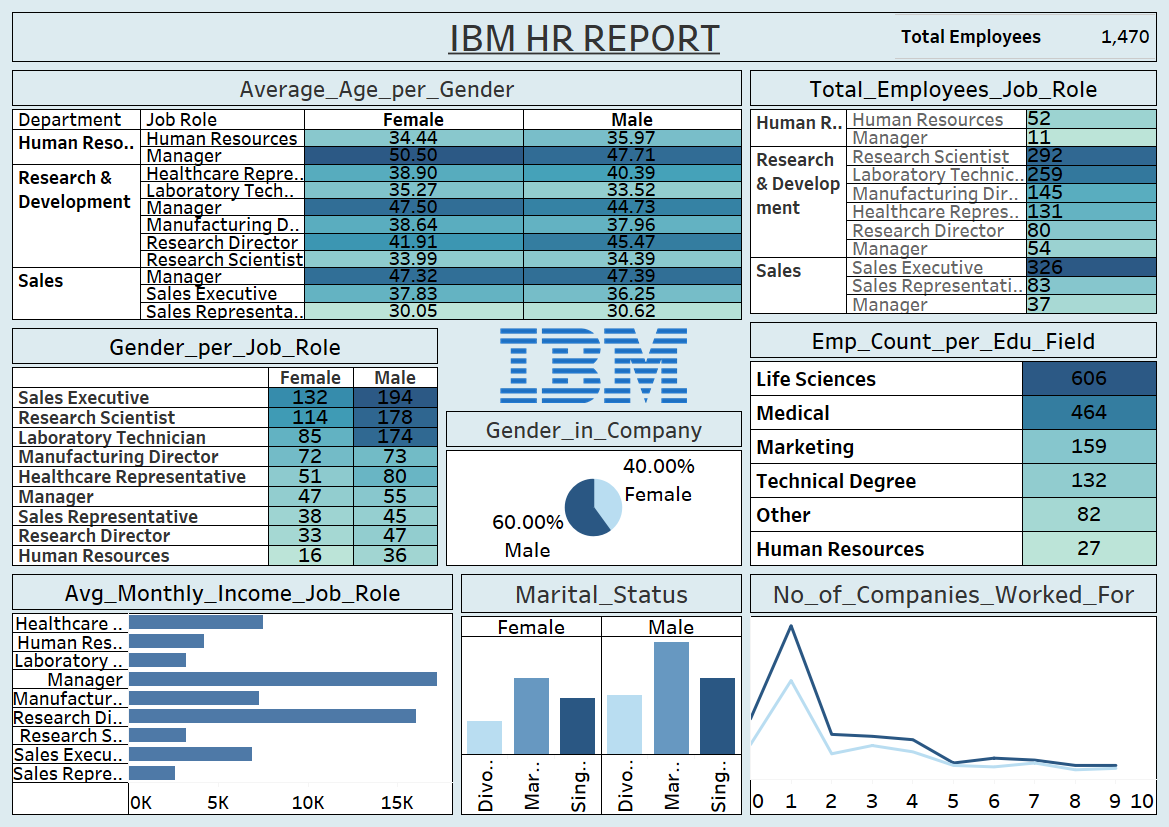

The dashboard page shown, as its layout file describes it:
{"tool":"tableau","page":{"name":"IBM HR REPORT","canvas":[1169,827],"ordinal":0},"visuals":[{"type":"title","box":[8,8,1153,58]},{"type":"worksheet","title":"Total_Employees","mark":"Automatic","rows":["Calculation_885238850525601792"],"box":[895,14,260,45]},{"type":"worksheet","title":"Average_Age_per_Gender","mark":"Square","rows":["Department","JobRole"],"cols":["Gender"],"box":[8,66,738,258.1]},{"type":"worksheet","title":"Total_Employees_Job_Role","mark":"Square","rows":["Department","JobRole"],"box":[746,66,415,252.1]},{"type":"worksheet","title":"Emp_Count_per_Edu_Field","mark":"Square","rows":["EducationField"],"box":[746,318.1,415,252.1]},{"type":"worksheet","title":"Gender_per_Job_Role","mark":"Square","rows":["JobRole"],"cols":["Gender"],"box":[8,324.1,434,246]},{"type":"image","param":"D:/ducat/tablue/IBM_logo.svg.png","box":[442,324.1,304,82.6]},{"type":"worksheet","title":"Gender_in_Company","mark":"Pie","box":[442,406.8,304,163.4]},{"type":"worksheet","title":"Avg_Monthly_Income_Job_Role","mark":"Automatic","rows":["JobRole"],"cols":["MonthlyIncome"],"box":[8,570.2,407,248.8]},{"type":"worksheet","title":"Marital_Status","mark":"Automatic","rows":["EmployeeCount"],"cols":["Gender","MaritalStatus"],"box":[415,570.2,270,248.8]},{"type":"worksheet","title":"No_of_Companies_Worked_For","mark":"Automatic","rows":["Gender"],"cols":["NumCompaniesWorked"],"box":[685,570.2,476,248.8]}]}

Visuals, with their boxes in screenshot pixels (x1, y1, x2, y2), scaled from the page's 1169x827 canvas onto the 1169x827 screenshot:
title: (left=8, top=8, right=1161, bottom=66)
"Total_Employees" worksheet: (left=895, top=14, right=1155, bottom=59)
"Average_Age_per_Gender" worksheet (Square marks): (left=8, top=66, right=746, bottom=324)
"Total_Employees_Job_Role" worksheet (Square marks): (left=746, top=66, right=1161, bottom=318)
"Emp_Count_per_Edu_Field" worksheet (Square marks): (left=746, top=318, right=1161, bottom=570)
"Gender_per_Job_Role" worksheet (Square marks): (left=8, top=324, right=442, bottom=570)
image: (left=442, top=324, right=746, bottom=407)
"Gender_in_Company" worksheet (Pie marks): (left=442, top=407, right=746, bottom=570)
"Avg_Monthly_Income_Job_Role" worksheet: (left=8, top=570, right=415, bottom=819)
"Marital_Status" worksheet: (left=415, top=570, right=685, bottom=819)
"No_of_Companies_Worked_For" worksheet: (left=685, top=570, right=1161, bottom=819)
